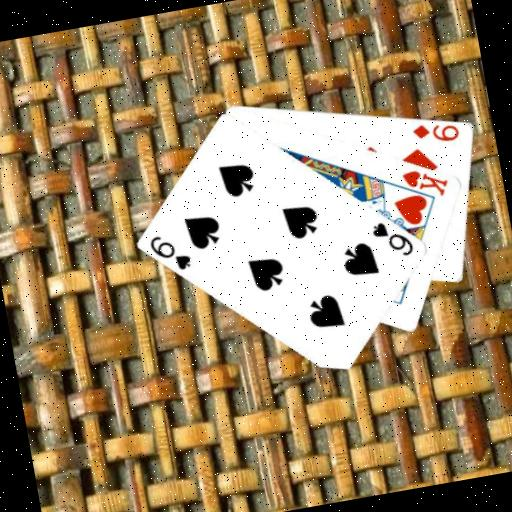6S: (145, 228, 195, 277), (368, 213, 417, 262)
9D: (408, 115, 462, 149)
KH: (398, 161, 452, 204)
